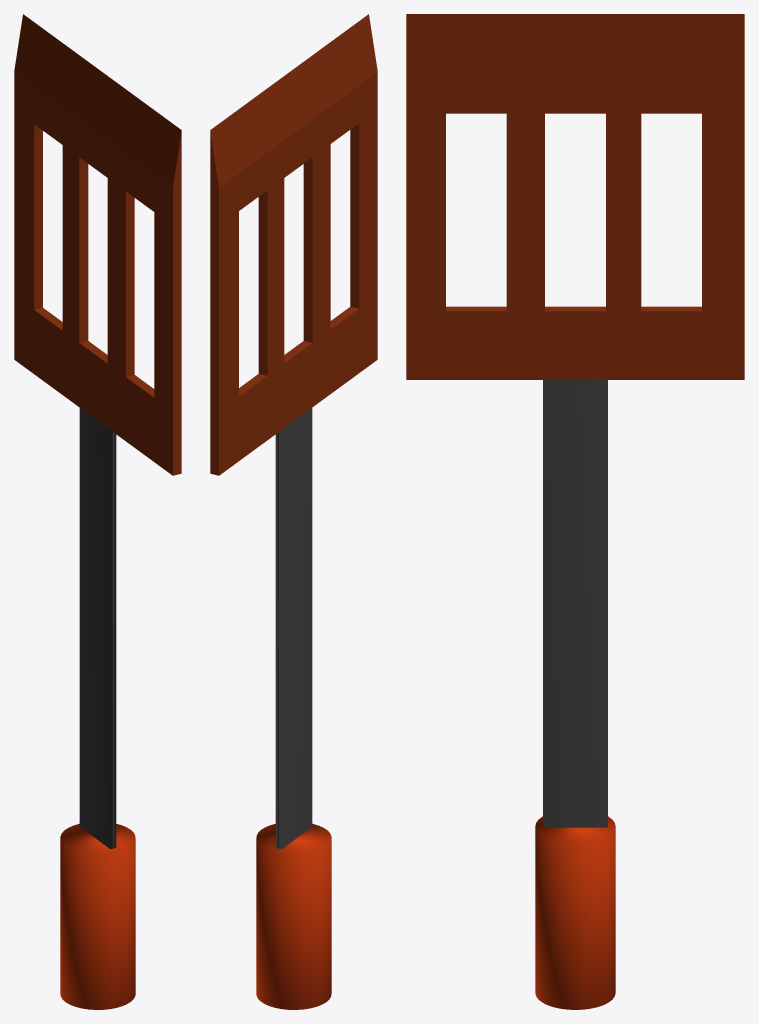
The model's file is espatula.obj.
The picture shows the model from 3 angles, left to right: view 1: azimuth 30°, elevation 25°; view 2: azimuth 150°, elevation 25°; view 3: azimuth 270°, elevation 25°; orthographic projection. The views are drawn at different scales.
Visible parts, largest first — view 1: Cube.001, Cube, Cylinder; view 2: Cube.001, Cube, Cylinder; view 3: Cube.001, Cube, Cylinder.
Part boxes in pixels (x1,y1,x2,y2): Cube.001: [14, 14, 181, 475]; Cube: [79, 408, 116, 849]; Cylinder: [60, 823, 135, 1009]; Cube.001: [210, 14, 377, 475]; Cube: [275, 408, 312, 849]; Cylinder: [256, 823, 331, 1009]; Cube.001: [406, 14, 744, 379]; Cube: [543, 380, 607, 827]; Cylinder: [535, 816, 615, 1009].
Size of what is drawn, in the model's own units: 0.206 by 2.78 by 0.8685.
